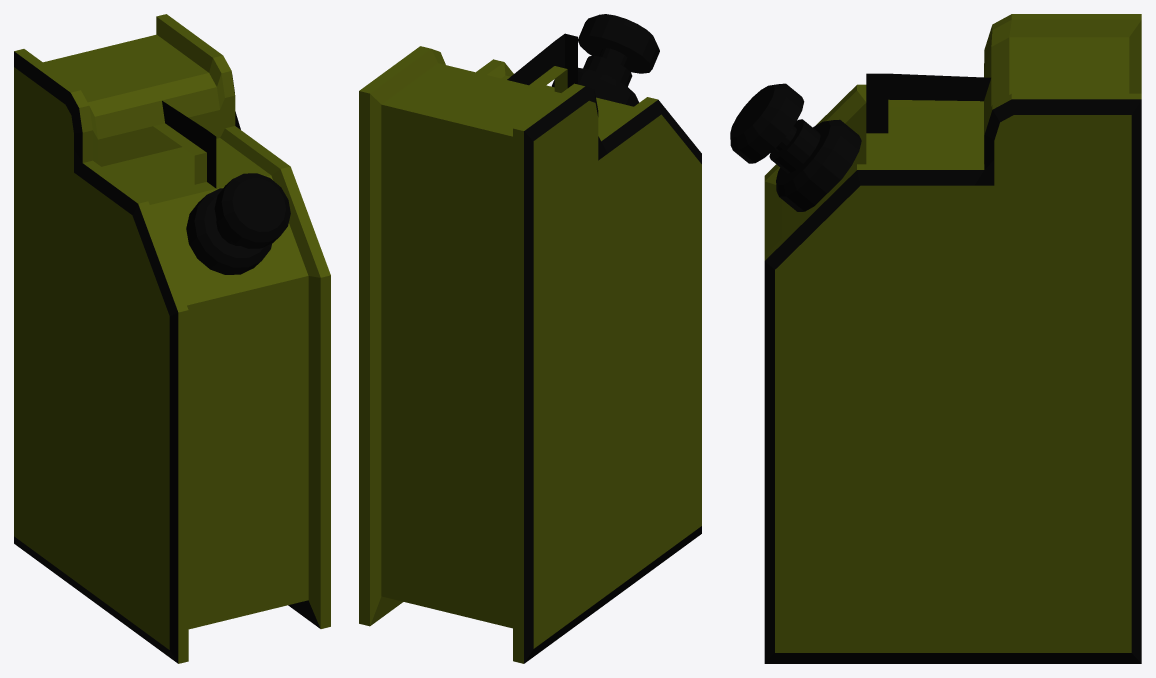
Rendered from GasRecalculated.fbx.
3 views of the same model, side by side, from view 1: azimuth 30°, elevation 25°; view 2: azimuth 150°, elevation 25°; view 3: azimuth 270°, elevation 25° (orthographic). The views are drawn at different scales.
Parts seen in each view (by area): view 1: Cube; view 2: Cube; view 3: Cube.
Boxes of the visible parts, x1=… form: Cube: x1=14, y1=14, x2=330, y2=663; Cube: x1=359, y1=14, x2=701, y2=663; Cube: x1=730, y1=14, x2=1141, y2=663.
Bounding box in the file's own units: 84.84 × 248 × 164.
